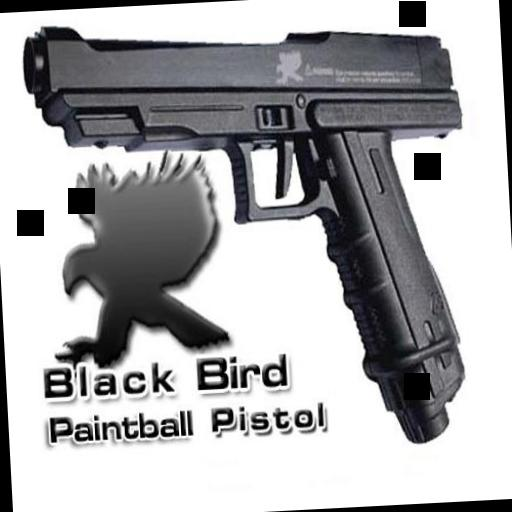Handgun: (18, 2, 478, 462)
